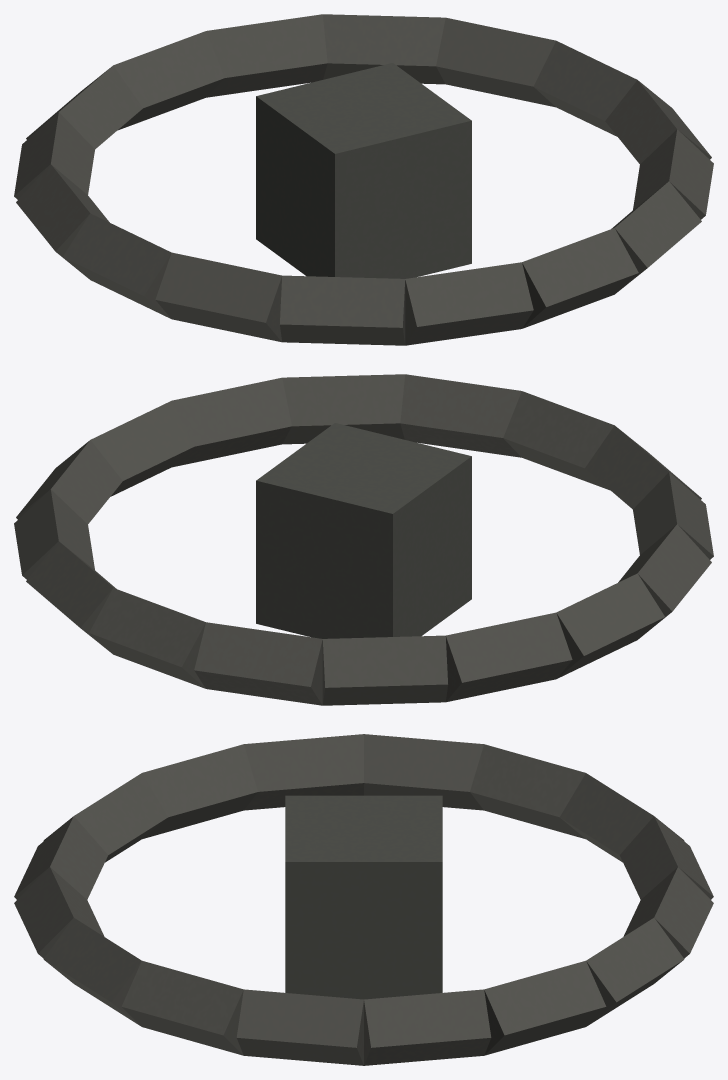
3 renders of one model, top to bottom at view 1: azimuth 30°, elevation 25°; view 2: azimuth 150°, elevation 25°; view 3: azimuth 270°, elevation 25°, orthographic.
Visible parts, largest first — view 1: Standard dimensional effect.001; view 2: Standard dimensional effect.001; view 3: Standard dimensional effect.001.
Boxes of the visible parts, x1=… form: Standard dimensional effect.001: x1=14, y1=14, x2=713, y2=345; Standard dimensional effect.001: x1=14, y1=374, x2=713, y2=705; Standard dimensional effect.001: x1=14, y1=734, x2=713, y2=1065.
Bounding box in the file's own units: 0.6687 × 0.15 × 0.6687.
1 material, 1 textured.
